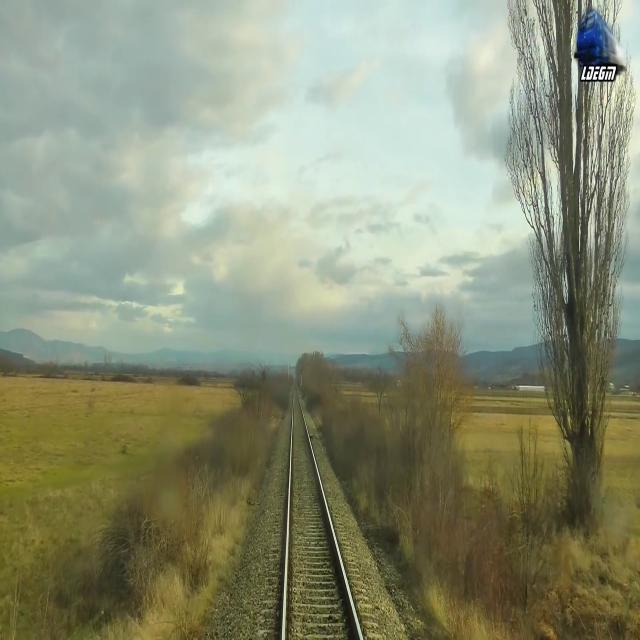rail-track: (287, 395, 357, 639)
